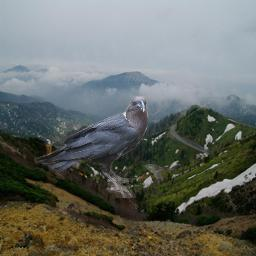Crow: (34, 96, 148, 198)
